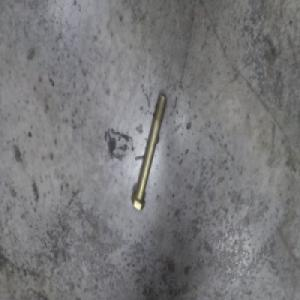Bolt: (130, 93, 169, 209)
